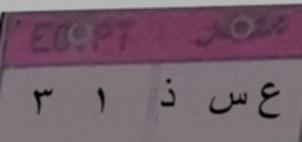1: (89, 84, 113, 120)
3: (32, 83, 56, 118)
ain: (253, 78, 284, 130)
seen: (204, 84, 250, 120)
zaal: (156, 77, 177, 111)
